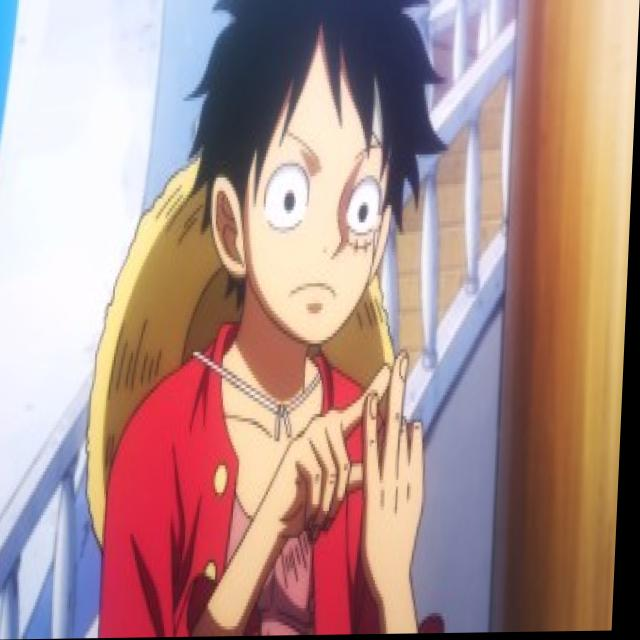Luffy: (177, 0, 434, 357)
